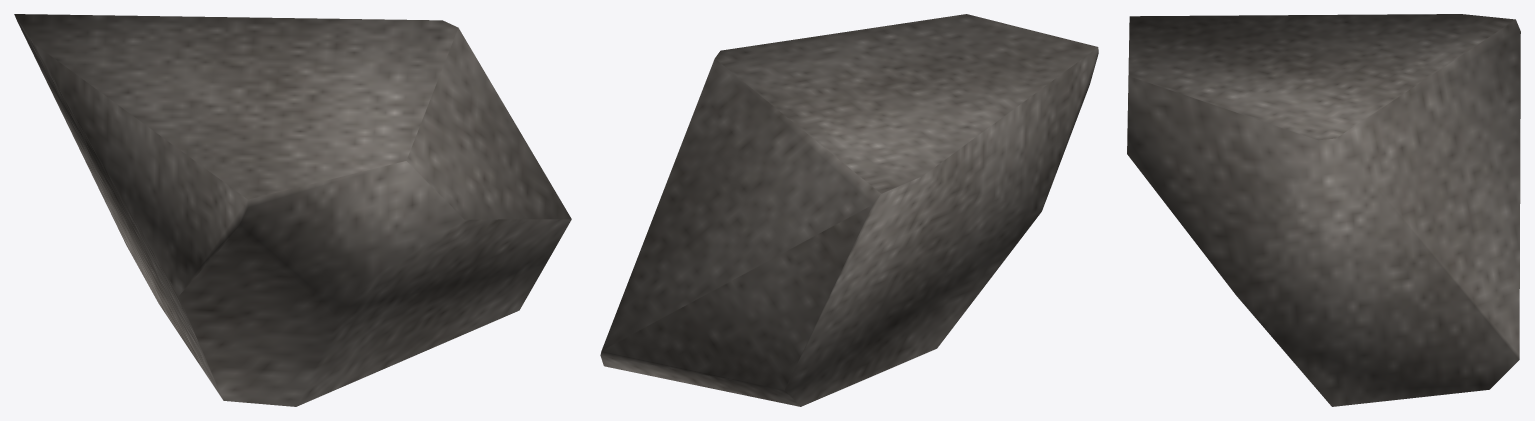
File: cliff_corner_2.glb
3 renders of one model, left to right at view 1: azimuth 30°, elevation 25°; view 2: azimuth 150°, elevation 25°; view 3: azimuth 270°, elevation 25°, orthographic. The views are drawn at different scales.
Parts seen in each view (by area): view 1: cliff_corner_2; view 2: cliff_corner_2; view 3: cliff_corner_2.
Boxes of the visible parts, x1,y1,x2,y2 form: cliff_corner_2: (14, 14, 571, 406); cliff_corner_2: (600, 14, 1098, 406); cliff_corner_2: (1127, 14, 1520, 406).
Bounding box in the file's own units: 6.91 × 5.02 × 7.46.
Materials: 1 (1 with a texture image).
